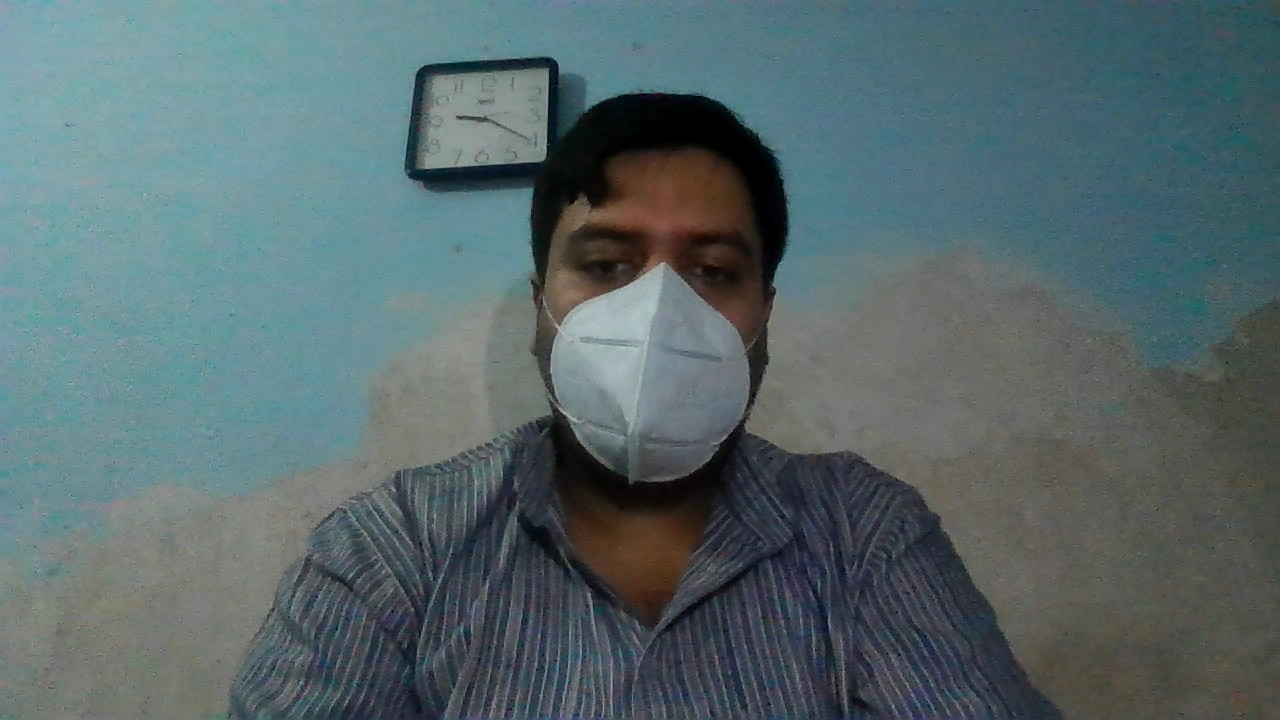Mask: (527, 263, 779, 485)
